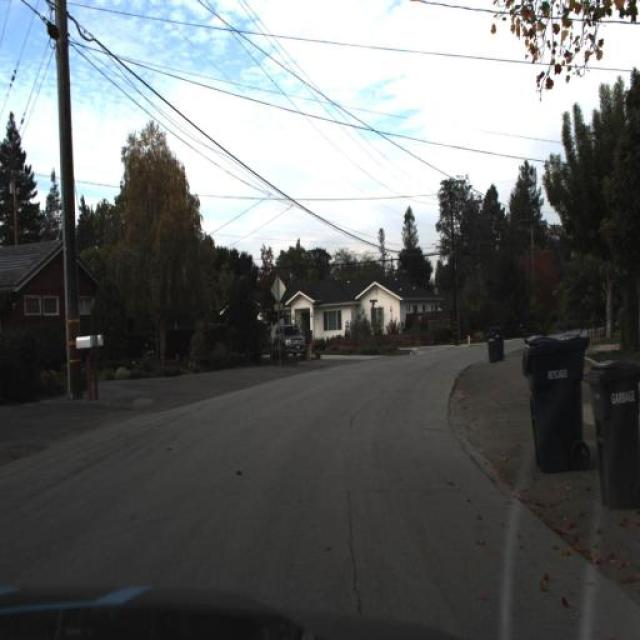car: (270, 322, 304, 358), (304, 331, 322, 363)
